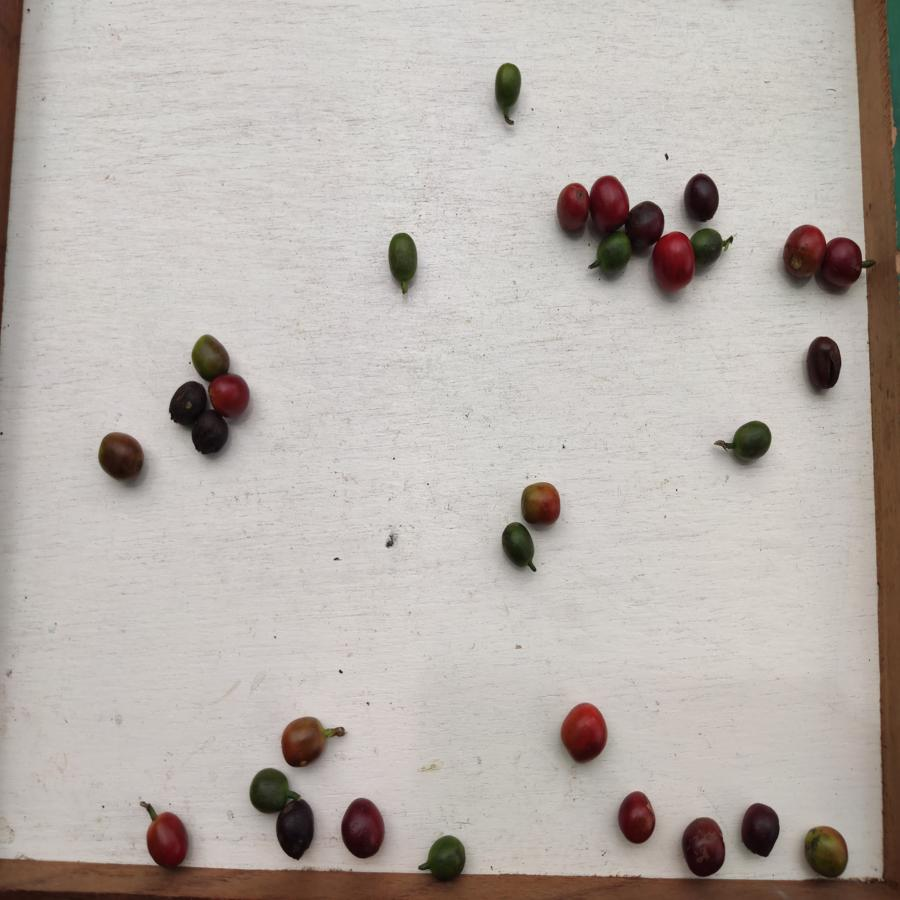Inmaduro: (425, 833, 467, 881), (731, 421, 774, 464), (499, 522, 537, 568), (249, 768, 290, 810), (387, 233, 420, 284), (492, 62, 522, 108), (691, 227, 724, 262), (598, 236, 630, 270)
Maduro: (558, 703, 608, 762), (650, 234, 695, 291), (147, 811, 190, 866), (782, 224, 822, 281), (591, 176, 627, 231), (557, 183, 591, 236), (206, 377, 249, 417)
Pinton: (277, 716, 328, 771), (95, 431, 145, 483), (804, 825, 850, 880), (190, 334, 235, 374), (521, 482, 560, 525)
Sobremaduro: (679, 816, 727, 878), (342, 796, 385, 856), (741, 803, 781, 860), (277, 804, 316, 862), (616, 792, 657, 843), (805, 337, 842, 393), (824, 236, 863, 289), (683, 174, 720, 223), (625, 200, 663, 245), (192, 412, 226, 456), (170, 382, 206, 423)
